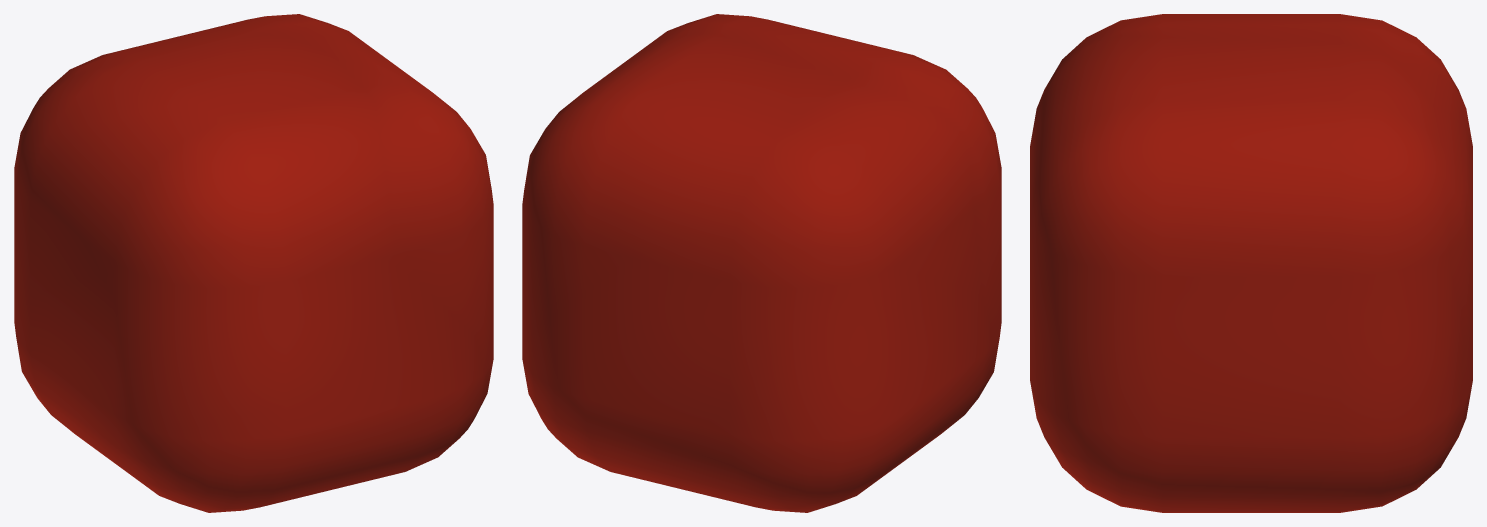
File: gummy_bear_block_r6.fbx
3 views of the same model, side by side, from view 1: azimuth 30°, elevation 25°; view 2: azimuth 150°, elevation 25°; view 3: azimuth 270°, elevation 25° (orthographic). The views are drawn at different scales.
Parts seen in each view (by area): view 1: gummy_bear_block; view 2: gummy_bear_block; view 3: gummy_bear_block.
Boxes of the visible parts, box(x1,y1,x2,y2) form: gummy_bear_block: box(14, 14, 493, 512); gummy_bear_block: box(522, 14, 1001, 512); gummy_bear_block: box(1030, 14, 1472, 512).
Bounding box in the file's own units: 20 × 20 × 20.
